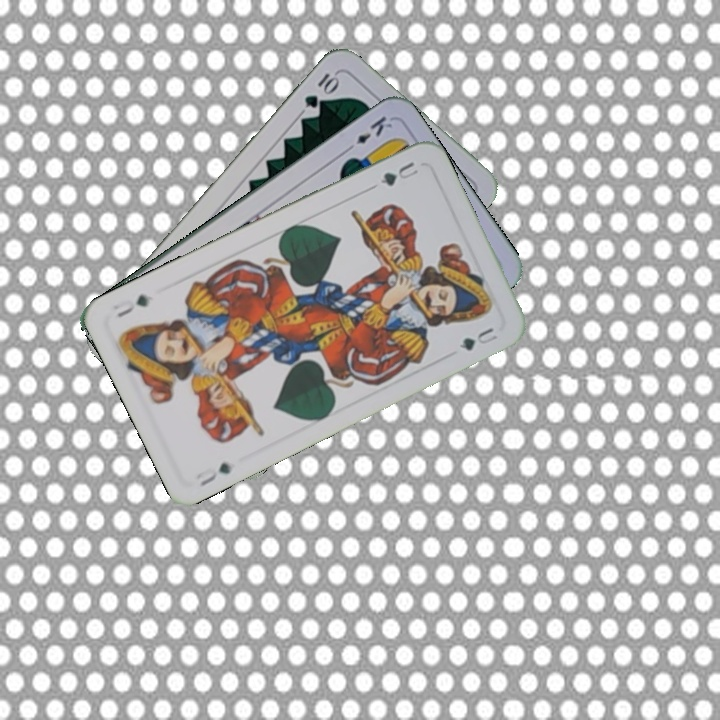EK: (341, 112, 395, 155)
G10: (300, 69, 342, 111)
GU: (376, 157, 421, 189), (191, 458, 234, 489)
